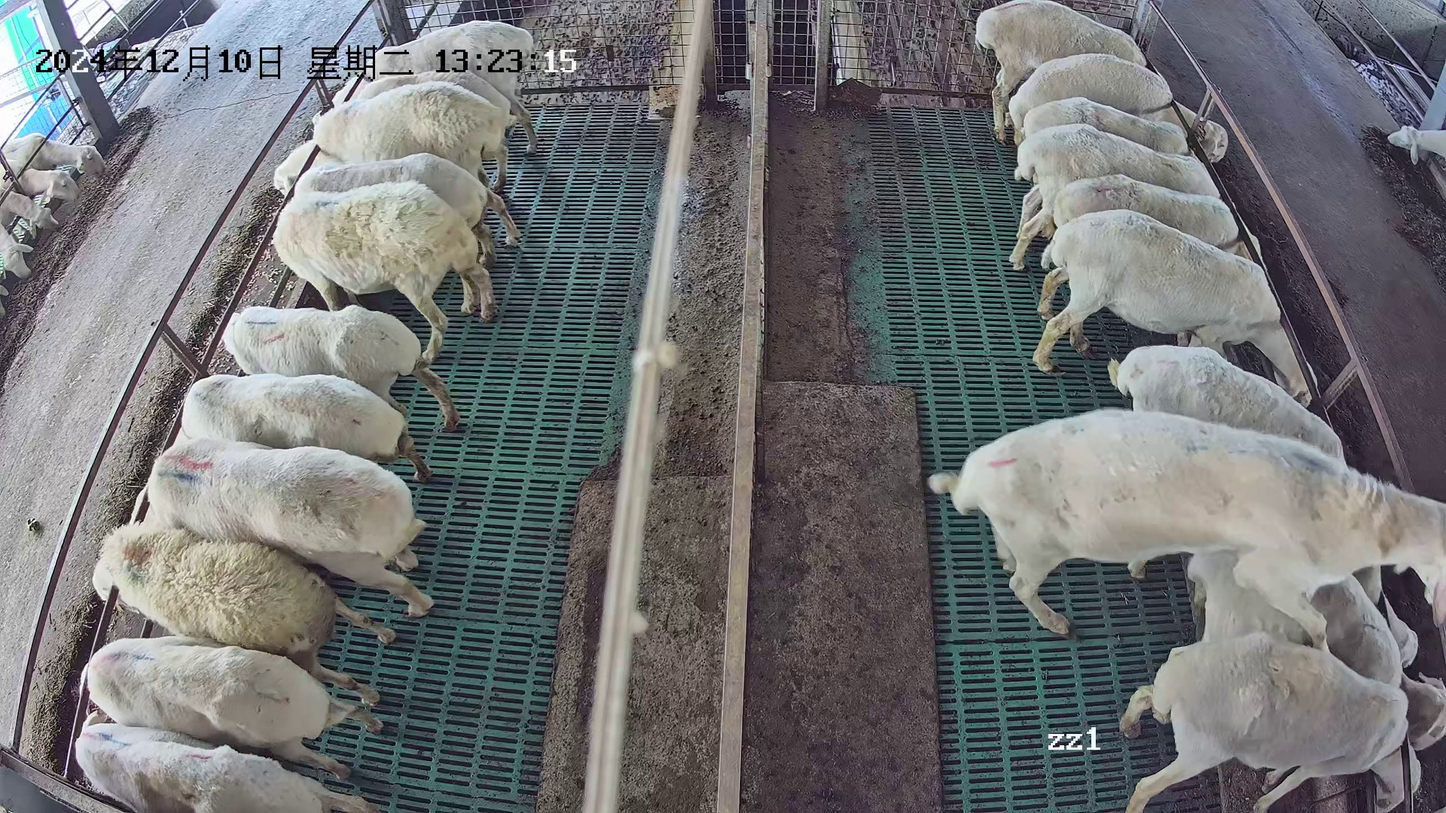Smounting: (927, 404, 1446, 755)
mounted: (1184, 539, 1446, 753)
